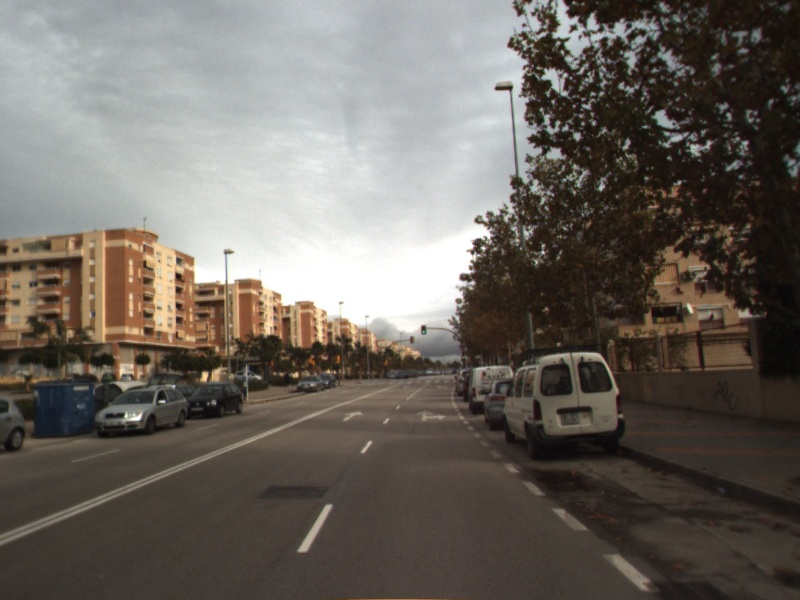STRAIGHT: (340, 408, 366, 424)
STRAIGHT_RIGHT: (414, 408, 448, 423)
